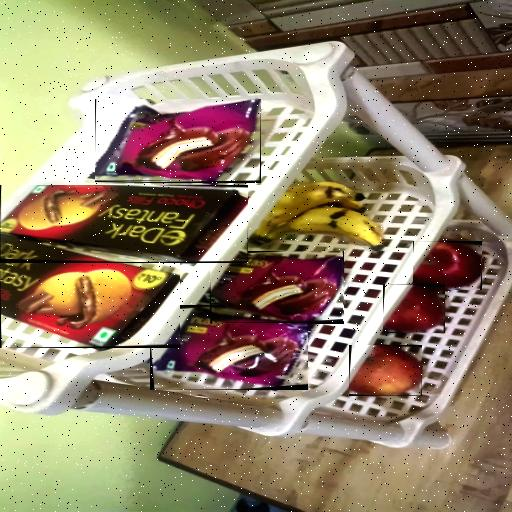Apple: (349, 345, 422, 396), (414, 241, 484, 290), (383, 284, 445, 333)
Choco Fills: (0, 232, 180, 348), (0, 185, 248, 262)
Choco Pie: (95, 100, 261, 184), (150, 305, 308, 390), (211, 253, 343, 322)
